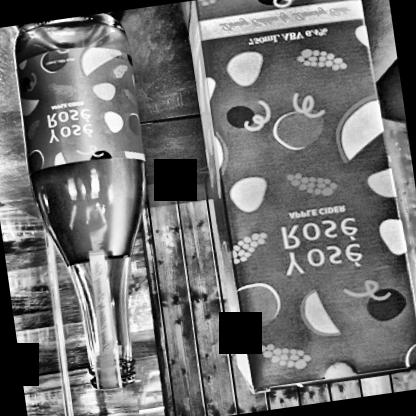yoserose: (14, 43, 150, 174)
